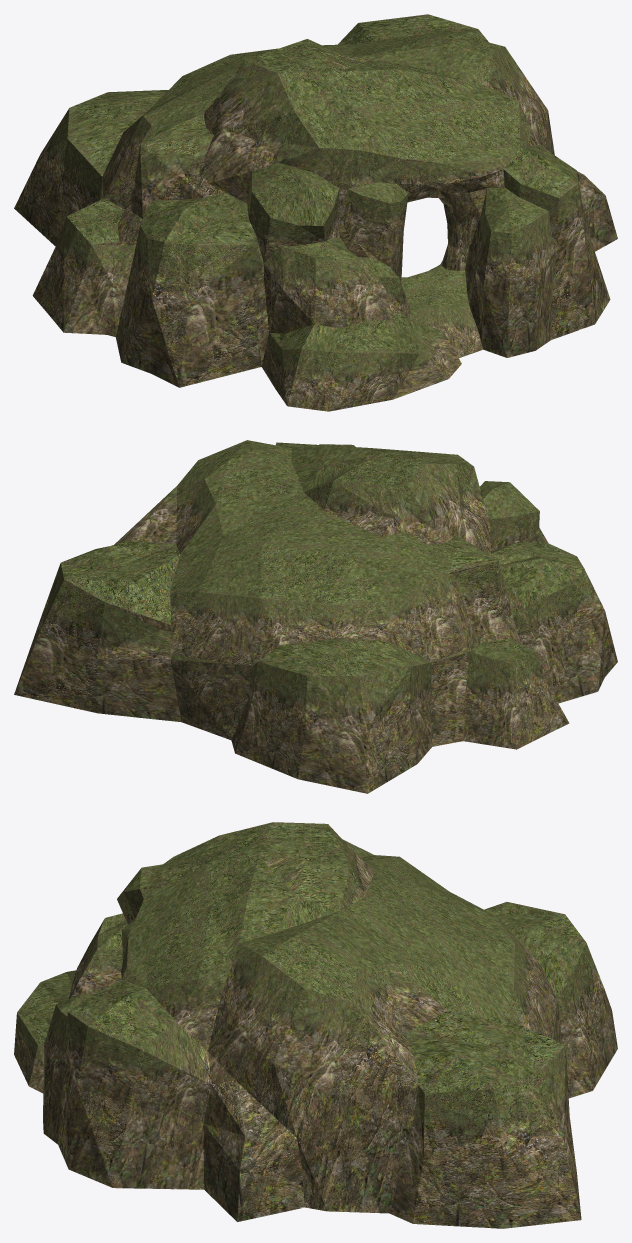
File: poi_all_bunker_mad_bio_s01_r0_mesh_l1.fbx
3 renders of one model, top to bottom at view 1: azimuth 30°, elevation 25°; view 2: azimuth 150°, elevation 25°; view 3: azimuth 270°, elevation 25°, orthographic. The views are drawn at different scales.
Parts seen in each view (by area): view 1: mesh_node; view 2: mesh_node; view 3: mesh_node.
Part boxes in pixels (x1=…): mesh_node: x1=14, y1=14, x2=617, y2=411; mesh_node: x1=14, y1=440, x2=617, y2=793; mesh_node: x1=14, y1=822, x2=617, y2=1228.
Size of the model in its own units: 91.84 by 38.65 by 88.91.
